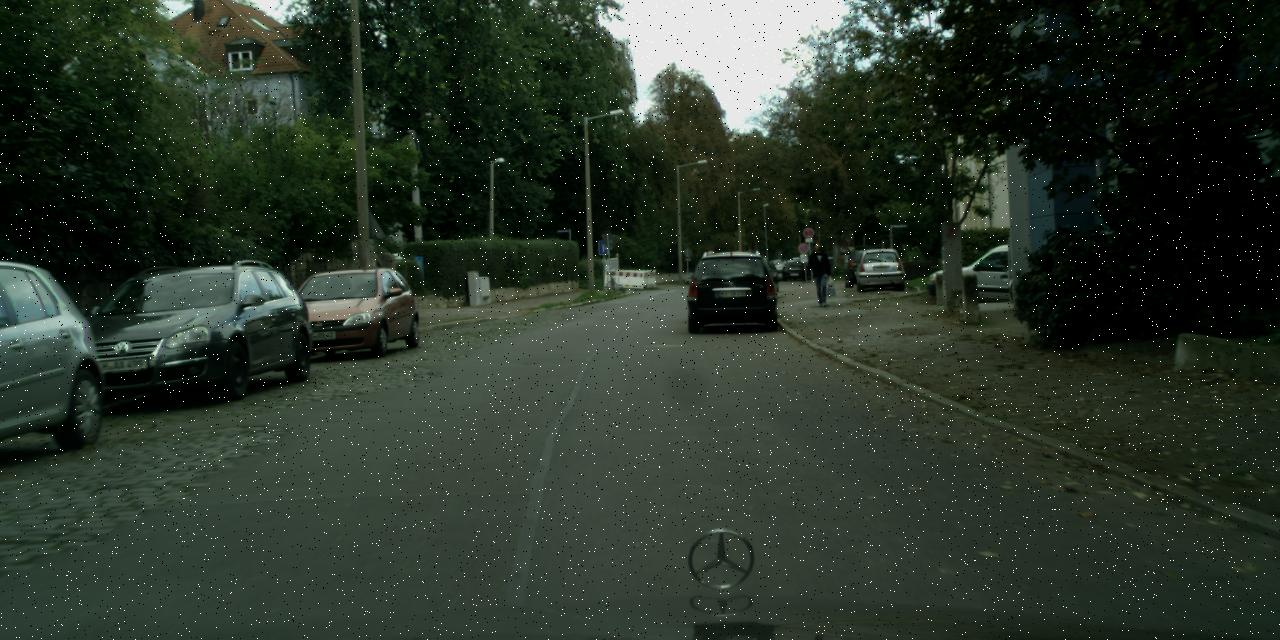ped: (806, 241, 832, 306)
